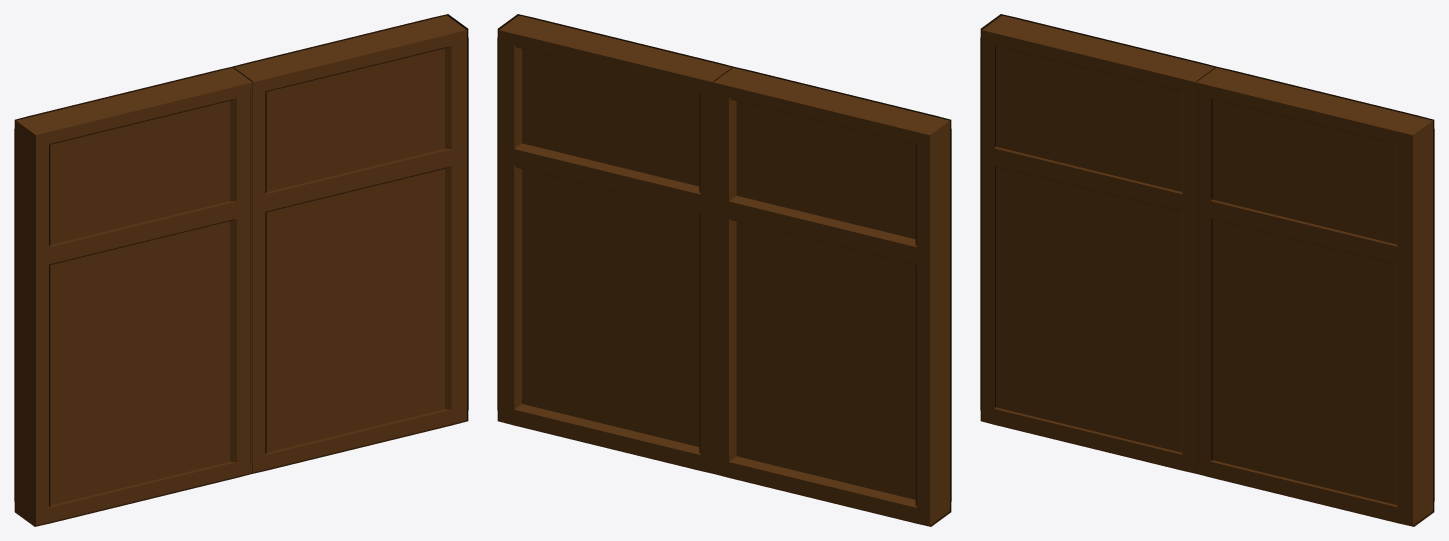
File: HouseWindow_(Outlined)_v002.fbx
3 renders of one model, left to right at view 1: azimuth 30°, elevation 25°; view 2: azimuth 150°, elevation 25°; view 3: azimuth 330°, elevation 25°, orthographic.
Parts seen in each view (by area): view 1: Cube.031, Cube.033; view 2: Cube.031, Cube.033; view 3: Cube.033, Cube.031.
Boxes of the visible parts, x1,y1,x2,y2 form: Cube.031: (14,66,252,526); Cube.033: (230,14,468,474); Cube.031: (713,66,951,526); Cube.033: (497,14,735,474); Cube.033: (1196,66,1434,526); Cube.031: (980,14,1218,474).
Size of the model in its own units: 123 by 106 by 9.88.
